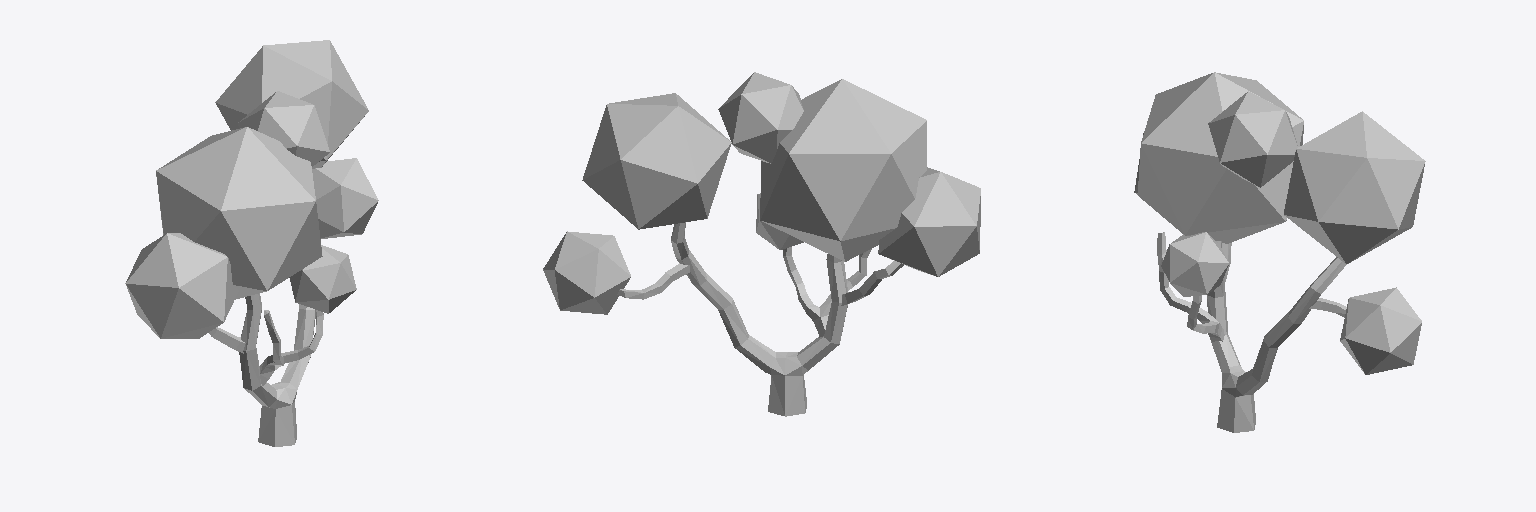
File: Lowpoly_tree_sample.obj
3 renders of one model, left to right at view 1: azimuth 30°, elevation 25°; view 2: azimuth 150°, elevation 25°; view 3: azimuth 270°, elevation 25°, orthographic.
Parts seen in each view (by area): view 1: Tree_lp_11; view 2: Tree_lp_11; view 3: Tree_lp_11.
Part boxes in pixels (x1,y1,x2,y2): Tree_lp_11: (125,40,378,446); Tree_lp_11: (543,72,980,416); Tree_lp_11: (1134,72,1425,432).
Bounding box in the file's own units: 27.98 × 26.54 × 20.8.